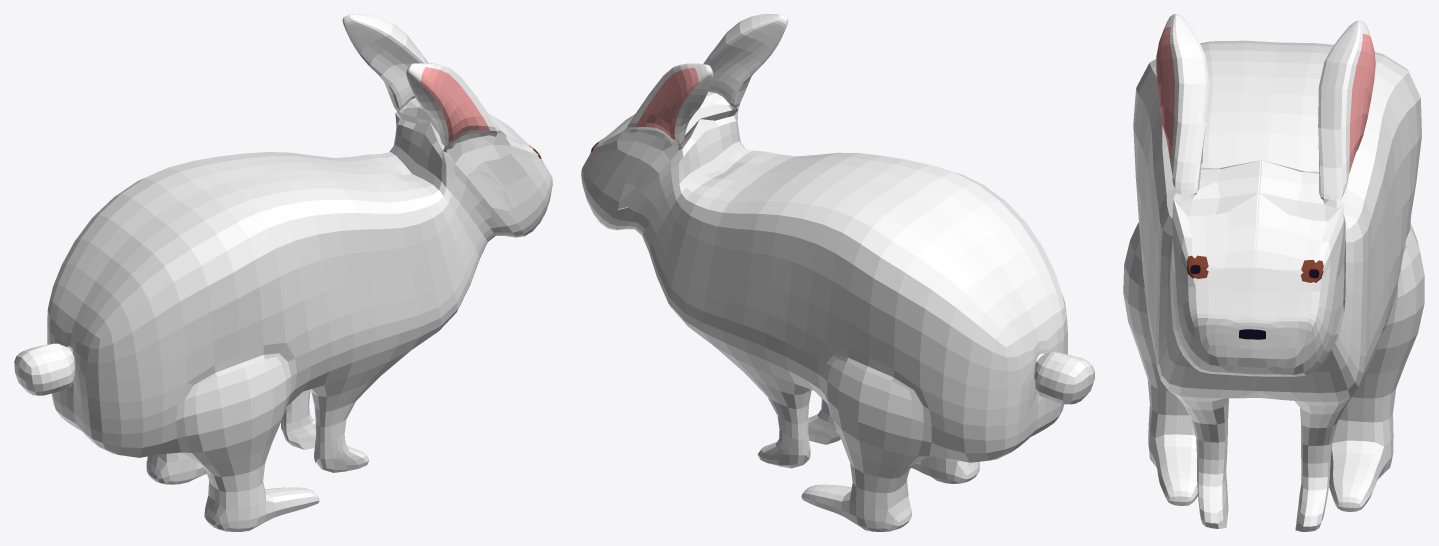
The model's file is Rabbit_V2.2_1.glb.
3 views of the same model, side by side, from view 1: azimuth 30°, elevation 25°; view 2: azimuth 150°, elevation 25°; view 3: azimuth 270°, elevation 25° (orthographic). The views are drawn at different scales.
Parts seen in each view (by area): view 1: Plane; view 2: Plane; view 3: Plane.
Boxes of the visible parts, left/top/right/bottom form: Plane: left=14, top=14, right=552, bottom=531; Plane: left=581, top=14, right=1094, bottom=531; Plane: left=1123, top=14, right=1424, bottom=531.
Bounding box in the file's own units: 8.39 × 6.68 × 3.25.
Materials: 1 (1 with a texture image).
